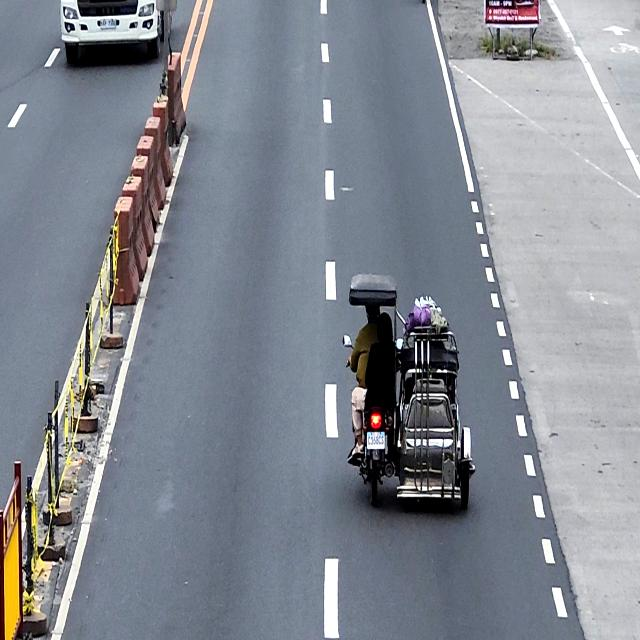Car: (60, 0, 165, 64)
License-Plate: (366, 432, 386, 452), (100, 16, 116, 28)
Tricycle: (342, 273, 476, 510)
